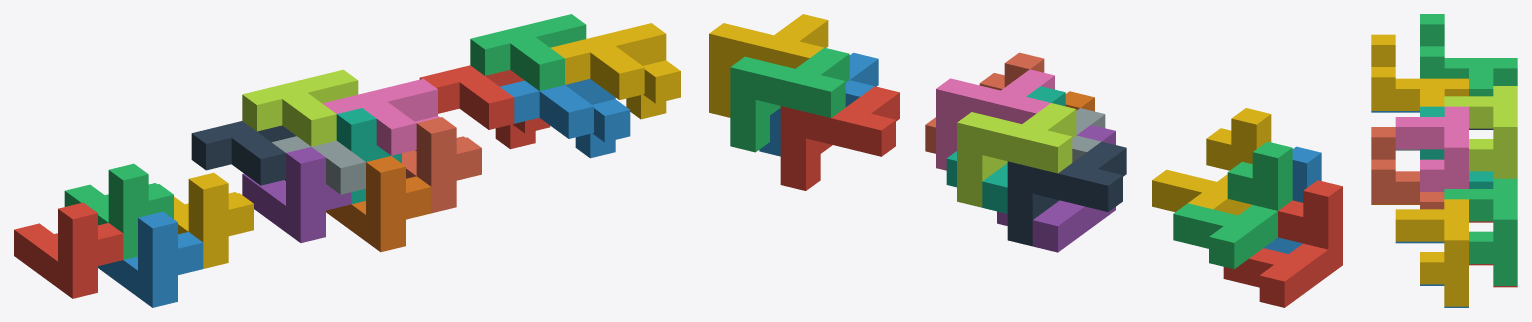
The model's file is tiling.obj.
3 views of the same model, side by side, from view 1: azimuth 30°, elevation 25°; view 2: azimuth 150°, elevation 25°; view 3: azimuth 270°, elevation 25° (orthographic). The views are drawn at different scales.
Visible parts, largest first — view 1: copy_2_domain_8, copy_1_domain_1, copy_2_domain_6, copy_1_domain_5, copy_1_domain_6, copy_1_domain_2, copy_2_domain_3, copy_2_domain_7, copy_2_domain_5, copy_1_domain_4, copy_1_domain_8, copy_1_domain_3 (+4 smaller); view 2: copy_1_domain_3, copy_1_domain_1, copy_2_domain_7, copy_2_domain_3, copy_2_domain_5, copy_2_domain_1, copy_1_domain_4, copy_2_domain_8, copy_2_domain_4, copy_1_domain_5, copy_1_domain_7, copy_2_domain_6 (+4 smaller); view 3: copy_2_domain_8, copy_2_domain_7, copy_2_domain_4, copy_2_domain_3, copy_1_domain_4, copy_1_domain_3, copy_1_domain_8, copy_1_domain_7, copy_2_domain_6, copy_2_domain_5.
Part boxes in pixels (x1,y1,x2,y2): copy_2_domain_8: (550,23,680,119); copy_1_domain_1: (14,202,123,298); copy_2_domain_6: (500,79,630,158); copy_1_domain_5: (242,147,351,242); copy_1_domain_6: (326,156,431,252); copy_1_domain_2: (98,211,203,307); copy_2_domain_3: (242,69,358,146); copy_2_domain_7: (470,14,586,90); copy_2_domain_5: (419,65,550,149); copy_1_domain_4: (174,172,253,268); copy_1_domain_8: (402,117,481,213); copy_1_domain_3: (64,163,173,259); copy_1_domain_3: (1173,141,1292,269); copy_1_domain_1: (1223,180,1342,307); copy_2_domain_7: (730,47,849,152); copy_2_domain_3: (957,103,1076,207); copy_2_domain_5: (780,86,899,190); copy_2_domain_1: (1007,141,1126,246); copy_1_domain_4: (1152,108,1271,215); copy_2_domain_8: (709,14,828,117); copy_2_domain_4: (936,69,1054,170); copy_1_domain_5: (997,125,1115,252); copy_1_domain_7: (946,86,1065,213); copy_2_domain_6: (759,52,878,156); copy_2_domain_8: (1395,199,1468,306); copy_2_domain_7: (1444,178,1517,285); copy_2_domain_4: (1395,106,1468,191); copy_2_domain_3: (1444,86,1517,178); copy_1_domain_4: (1371,34,1468,110); copy_1_domain_3: (1420,14,1517,96); copy_1_domain_8: (1371,127,1444,209); copy_1_domain_7: (1420,106,1493,188); copy_2_domain_6: (1395,241,1468,307); copy_2_domain_5: (1469,221,1517,287).
Bounding box in the file's own units: 24 × 4 × 6.
